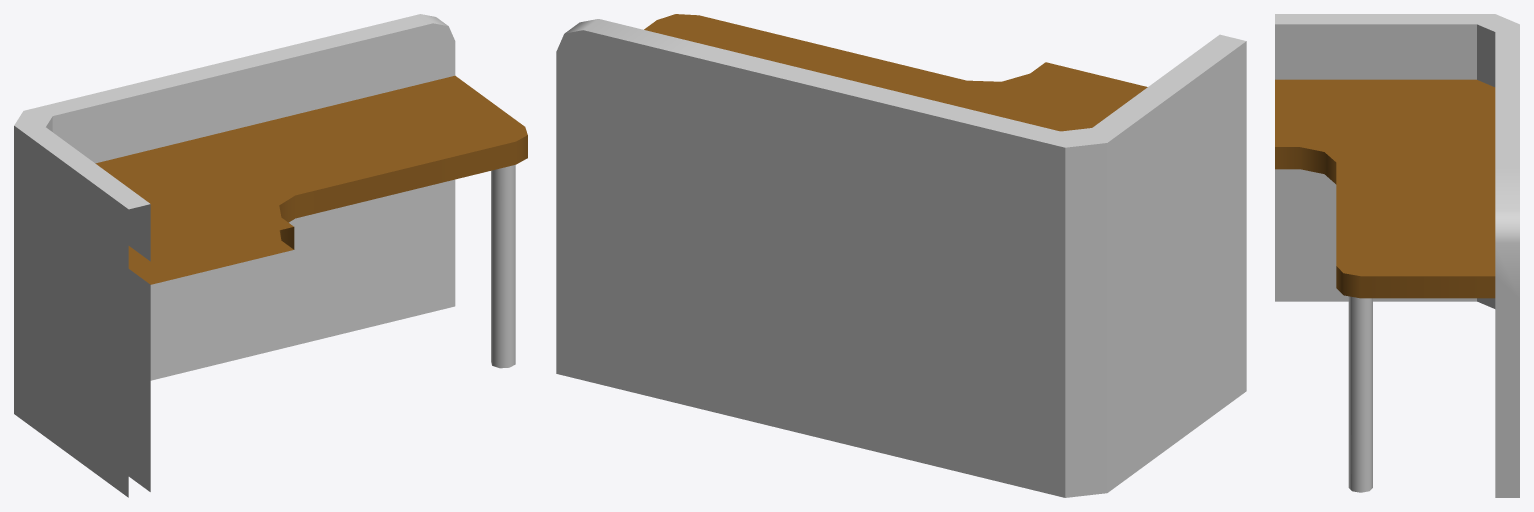
Rendered from ModularDesk.glb.
3 views of the same model, side by side, from view 1: azimuth 30°, elevation 25°; view 2: azimuth 150°, elevation 25°; view 3: azimuth 270°, elevation 25° (orthographic). The views are drawn at different scales.
Visible parts, largest first — view 1: Cube, Cube.002, Cube.001; view 2: Cube, Cube.001, Cube.002; view 3: Cube, Cube.002, Cube.001.
Boxes of the visible parts, <box> form: Cube: <box>14,62,317,497</box>; Cube.002: <box>332,14,527,368</box>; Cube.001: <box>222,35,427,359</box>; Cube: <box>824,34,1246,497</box>; Cube.001: <box>690,41,939,438</box>; Cube.002: <box>556,14,805,406</box>; Cube: <box>1275,14,1519,308</box>; Cube.002: <box>1336,169,1519,497</box>; Cube.001: <box>1336,117,1519,224</box>.
Size of the model in its own units: 4 by 2.5 by 2.
